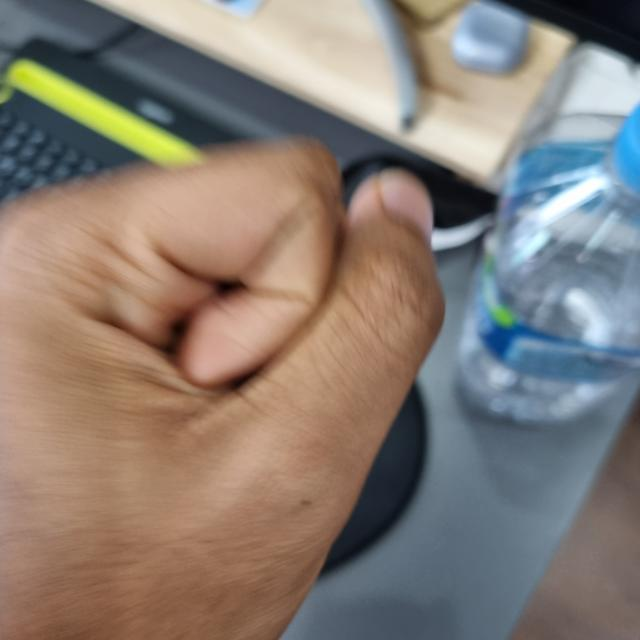Rock: (0, 138, 640, 639)
